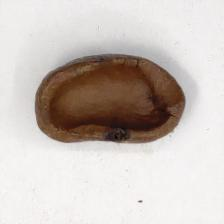NG: (39, 56, 183, 146)
